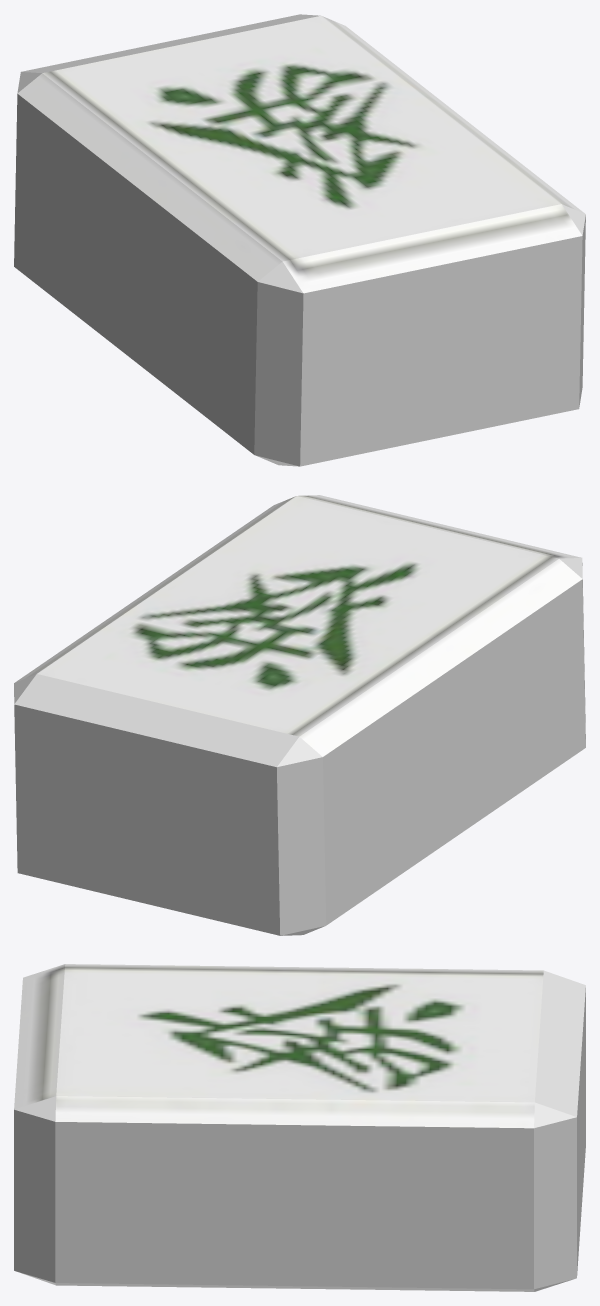
Rendered from hatu.fbx.
The picture shows the model from 3 angles, top to bottom: view 1: azimuth 30°, elevation 25°; view 2: azimuth 150°, elevation 25°; view 3: azimuth 270°, elevation 25°; orthographic projection. The views are drawn at different scales.
Visible parts, largest first — view 1: hatu; view 2: hatu; view 3: hatu.
Boxes of the visible parts, x1=… form: hatu: x1=14, y1=14, x2=585, y2=466; hatu: x1=14, y1=495, x2=585, y2=935; hatu: x1=14, y1=964, x2=585, y2=1291.
Bounding box in the file's own units: 52.53 × 30.93 × 81.24.
